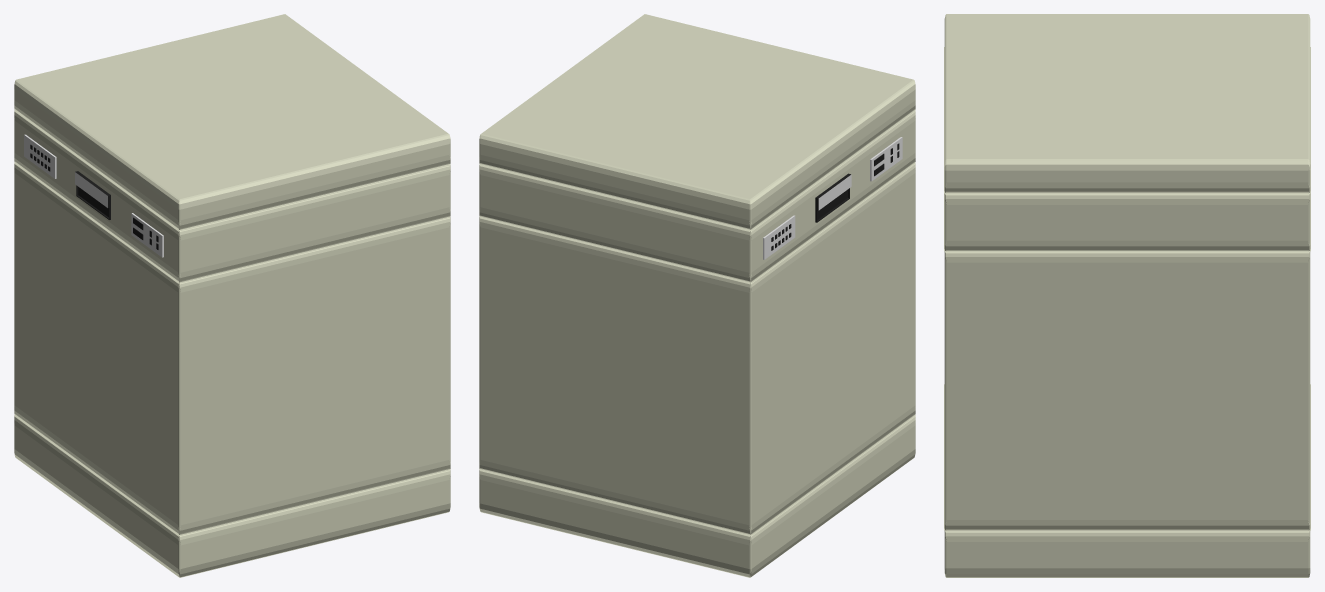
Rendered from f5ade61d-6051-472c-9622-d2bf6823895d.glb.
3 views of the same model, side by side, from view 1: azimuth 30°, elevation 25°; view 2: azimuth 150°, elevation 25°; view 3: azimuth 270°, elevation 25° (orthographic). The views are drawn at different scales.
Parts seen in each view (by area): view 1: Box20205, Box20210, Box20219, Box20204; view 2: Box20205, Box20210, Box20219, Box20204; view 3: Box20205.
Boxes of the visible parts, <box> form: Box20205: <box>14,14,450,577</box>; Box20210: <box>75,171,110,219</box>; Box20219: <box>24,134,56,178</box>; Box20204: <box>131,213,163,257</box>; Box20205: <box>479,14,915,577</box>; Box20210: <box>815,173,851,222</box>; Box20219: <box>763,215,795,259</box>; Box20204: <box>870,137,902,181</box>; Box20205: <box>944,14,1310,577</box>.
Bounding box in the file's own units: 732 × 961 × 763.
